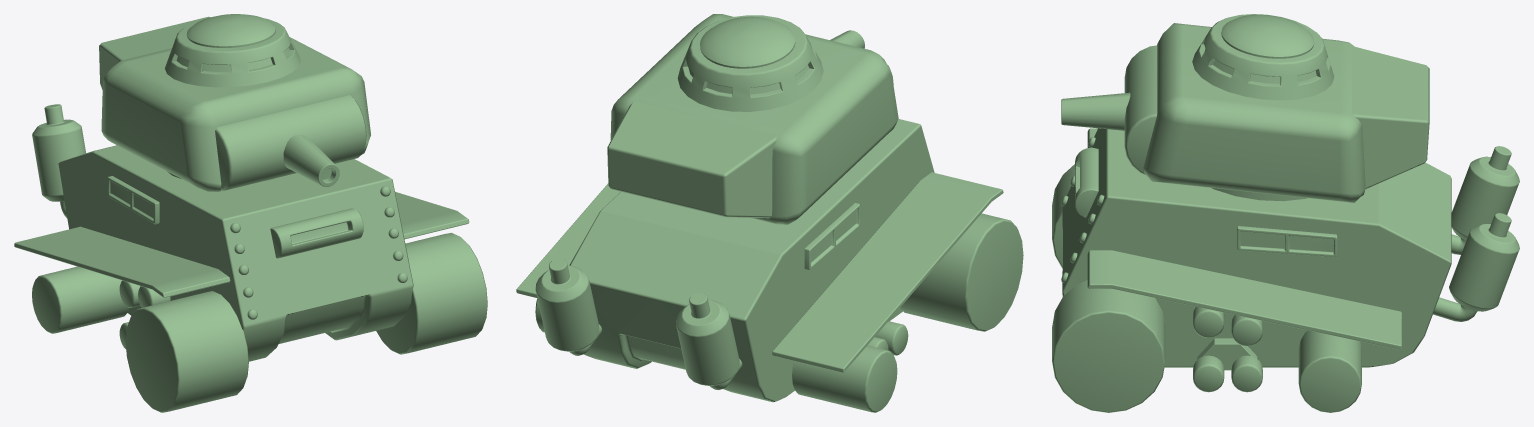
The model's file is tank body.fbx.
3 views of the same model, side by side, from view 1: azimuth 30°, elevation 25°; view 2: azimuth 150°, elevation 25°; view 3: azimuth 270°, elevation 25° (orthographic). The views are drawn at different scales.
Parts seen in each view (by area): view 1: tank1, tank25, tank23, tank3, tank17, tank31, tank9, tank19, tank29, tank27, tank21, tank5 (+1 smaller); view 2: tank1, tank23, tank3, tank27, tank25, tank9, tank31, tank29, tank5; view 3: tank1, tank23, tank25, tank3, tank9, tank27, tank31, tank17, tank29, tank5, tank21, tank19 (+3 smaller).
Boxes of the visible parts, x1,y1,x2,y2 form: tank1: [58, 145, 413, 361]; tank25: [32, 232, 487, 412]; tank23: [101, 37, 370, 191]; tank3: [14, 191, 469, 297]; tank17: [215, 95, 366, 191]; tank31: [164, 18, 300, 87]; tank9: [32, 104, 85, 218]; tank19: [270, 208, 363, 258]; tank29: [186, 14, 275, 47]; tank27: [99, 16, 210, 89]; tank21: [283, 134, 339, 187]; tank5: [107, 176, 159, 224]; tank1: [569, 119, 934, 402]; tank23: [610, 14, 898, 224]; tank3: [516, 172, 1003, 372]; tank27: [607, 101, 776, 218]; tank25: [535, 213, 1023, 412]; tank9: [535, 258, 742, 389]; tank31: [677, 15, 823, 111]; tank29: [700, 16, 795, 68]; tank5: [804, 203, 860, 270]; tank1: [1062, 128, 1451, 367]; tank23: [1143, 23, 1365, 202]; tank25: [1052, 164, 1361, 412]; tank3: [1087, 128, 1401, 349]; tank9: [1433, 146, 1519, 321]; tank27: [1352, 46, 1429, 189]; tank31: [1192, 14, 1334, 100]; tank17: [1124, 45, 1157, 175]; tank29: [1221, 14, 1314, 58]; tank5: [1237, 226, 1337, 256]; tank21: [1061, 92, 1130, 130]; tank19: [1075, 147, 1098, 217].
Size of the model in its own units: 2.48 by 2.27 by 3.1.
